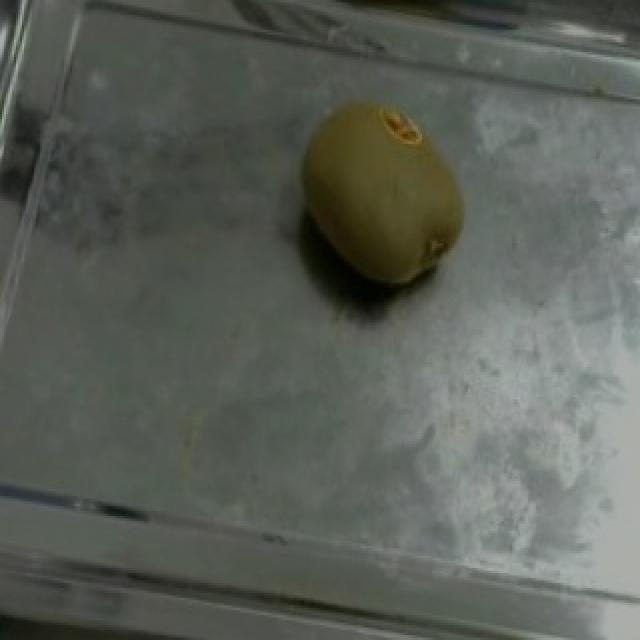Fruit: (270, 79, 488, 310)
